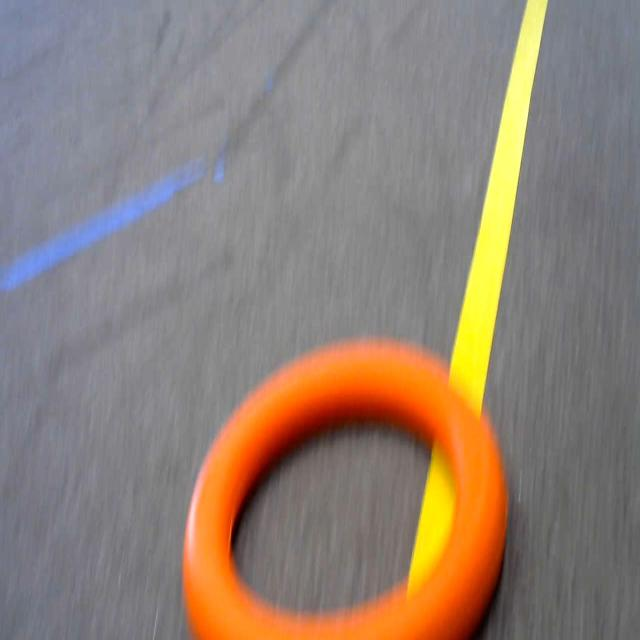note: (176, 334, 512, 640)
